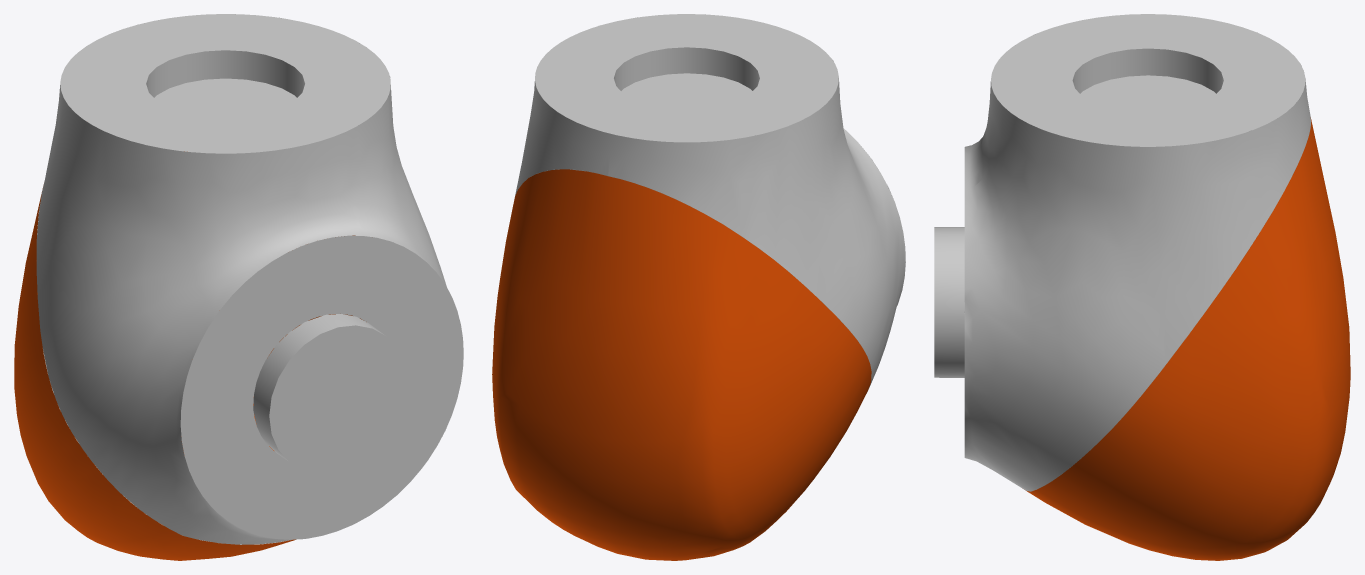
3 renders of one model, left to right at view 1: azimuth 30°, elevation 25°; view 2: azimuth 150°, elevation 25°; view 3: azimuth 270°, elevation 25°, orthographic. The views are drawn at different scales.
Parts seen in each view (by area): view 1: ShapeIndexedFaceSet; view 2: ShapeIndexedFaceSet; view 3: ShapeIndexedFaceSet.
Boxes of the visible parts, x1,y1,x2,y2 form: ShapeIndexedFaceSet: (14,14,463,560); ShapeIndexedFaceSet: (492,14,905,560); ShapeIndexedFaceSet: (934,14,1350,560).
Size of the model in its own units: 0.1323 by 0.1376 by 0.1672.
